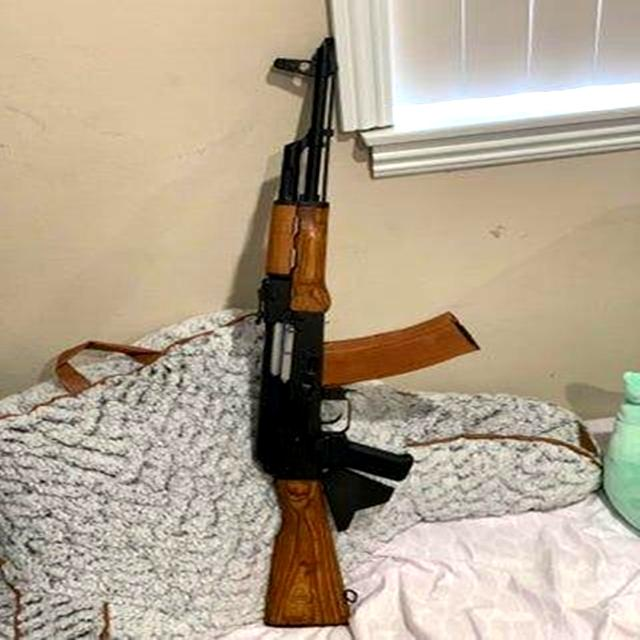ak: (213, 33, 494, 628)
